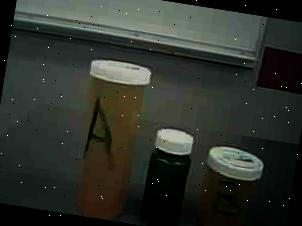Bottle A: (61, 56, 154, 224)
Bottle B: (193, 136, 267, 226)
Bottle C: (134, 121, 199, 226)
